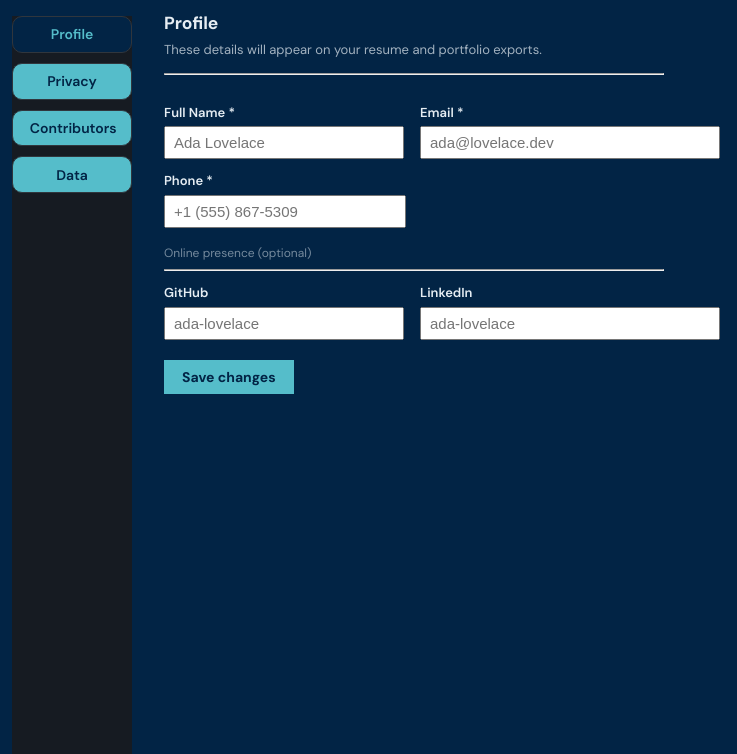
Test: Privacy tab › shows consent not granted by default
Click the button "Privacy" at (72, 81), box [12,63,132,100]
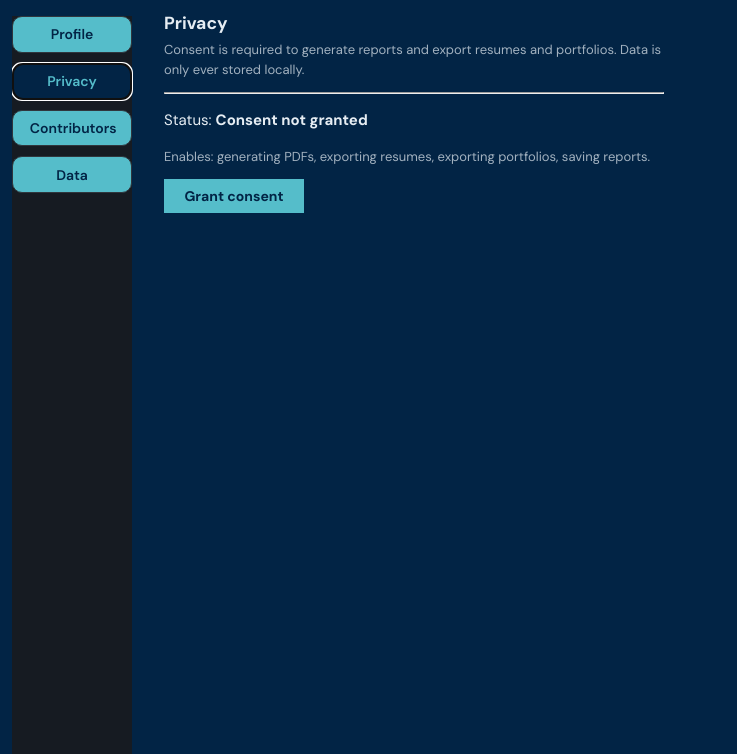
Check: the text "Consent not granted" is shown, box [216,110,368,130]
